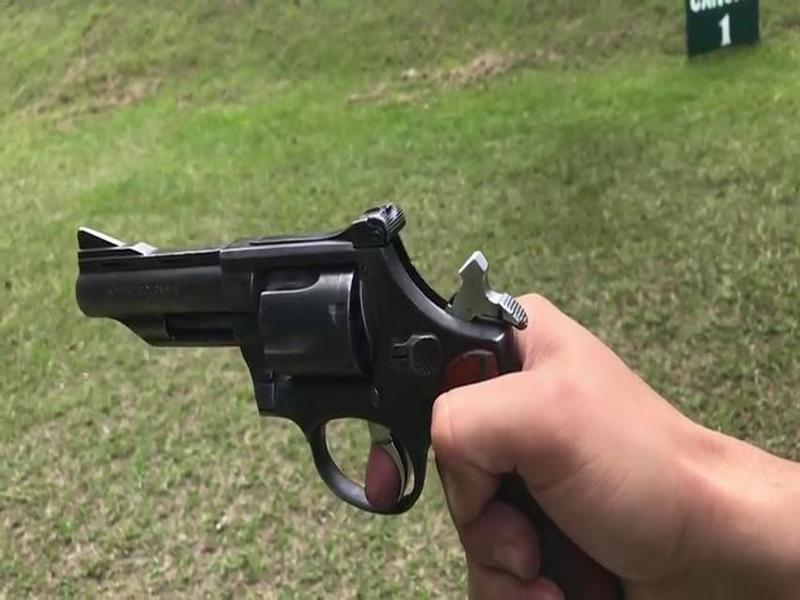Revolver: (58, 179, 537, 528)
